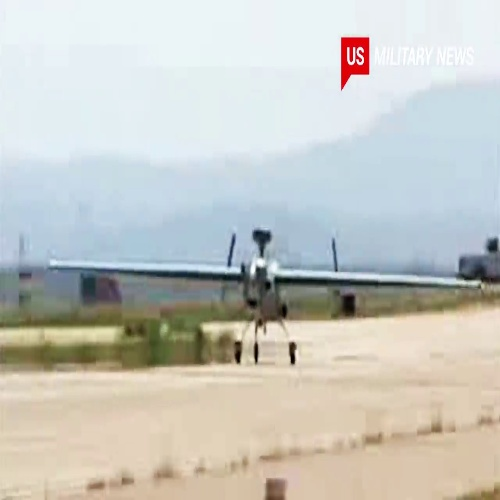uav: (47, 222, 483, 367)
